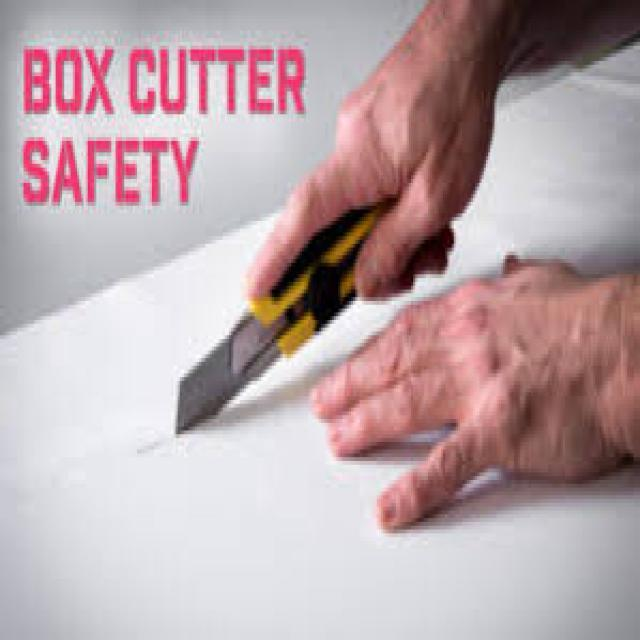cutter: (170, 194, 442, 456)
